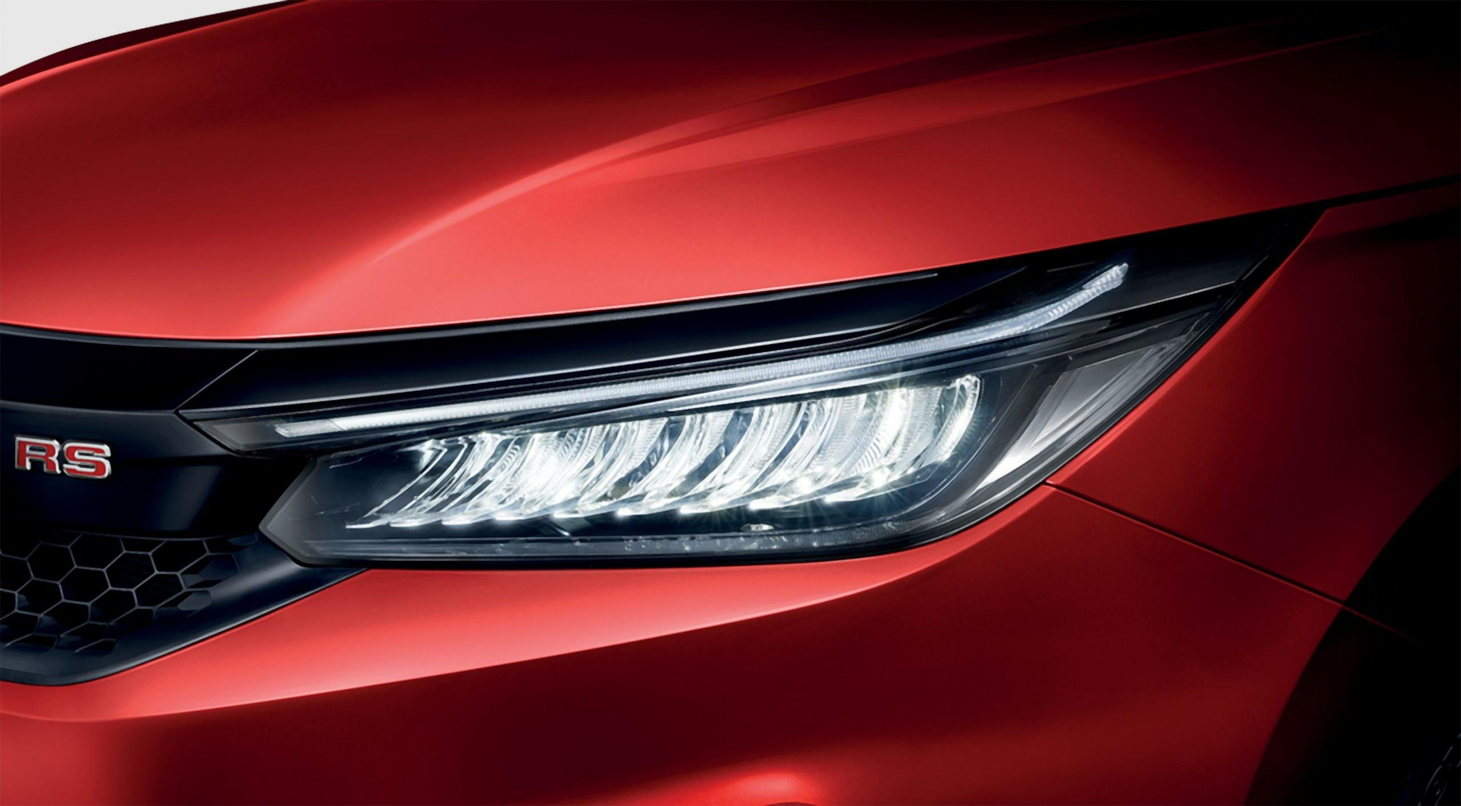Car hood: (0, 0, 1461, 595)
Front bumper: (0, 480, 1350, 806)
Headlight - -L-: (171, 199, 1336, 573)
